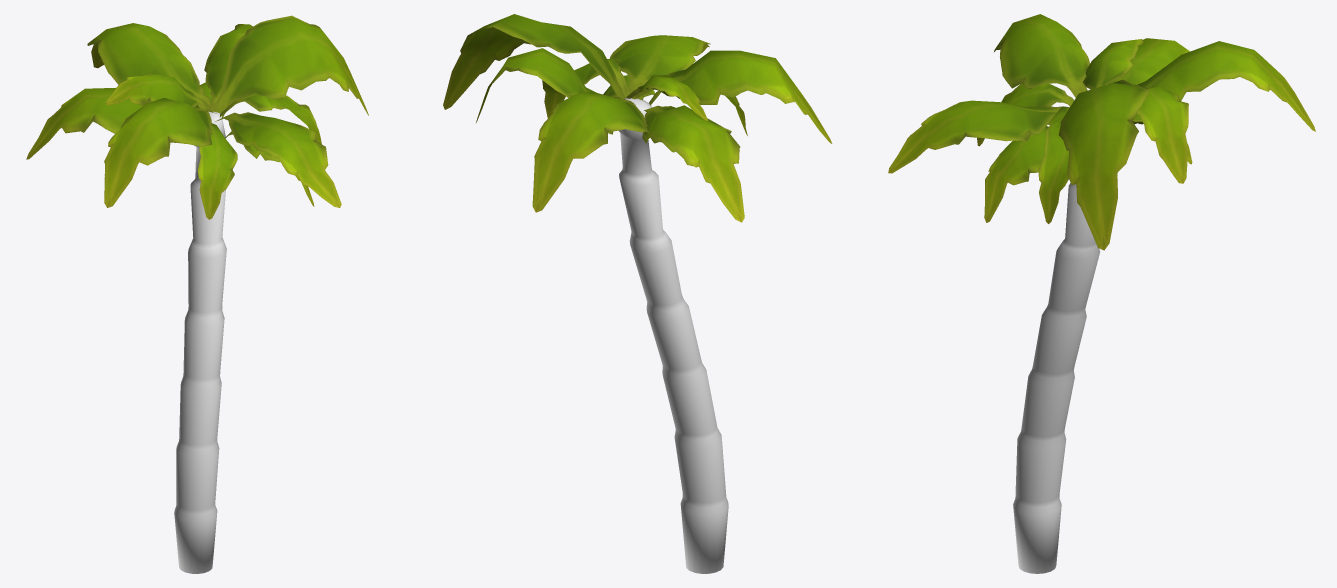
File: Palm0.fbx
3 renders of one model, left to right at view 1: azimuth 30°, elevation 25°; view 2: azimuth 150°, elevation 25°; view 3: azimuth 270°, elevation 25°, orthographic. The views are drawn at different scales.
Parts seen in each view (by area): view 1: Palm0_LOD0; view 2: Palm0_LOD0; view 3: Palm0_LOD0.
Part boxes in pixels (x1,y1,x2,y2): Palm0_LOD0: [26, 15, 368, 573]; Palm0_LOD0: [443, 14, 832, 573]; Palm0_LOD0: [888, 14, 1315, 573].
Size of what is drawn, in the model's own units: 406 by 560 by 420.
